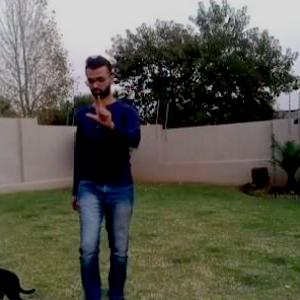land_hand: (84, 95, 118, 133)
